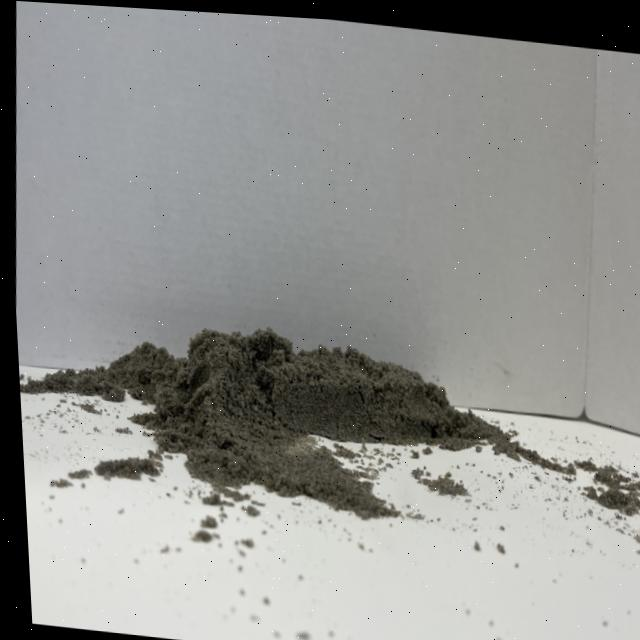sand: (68, 291, 527, 534)
